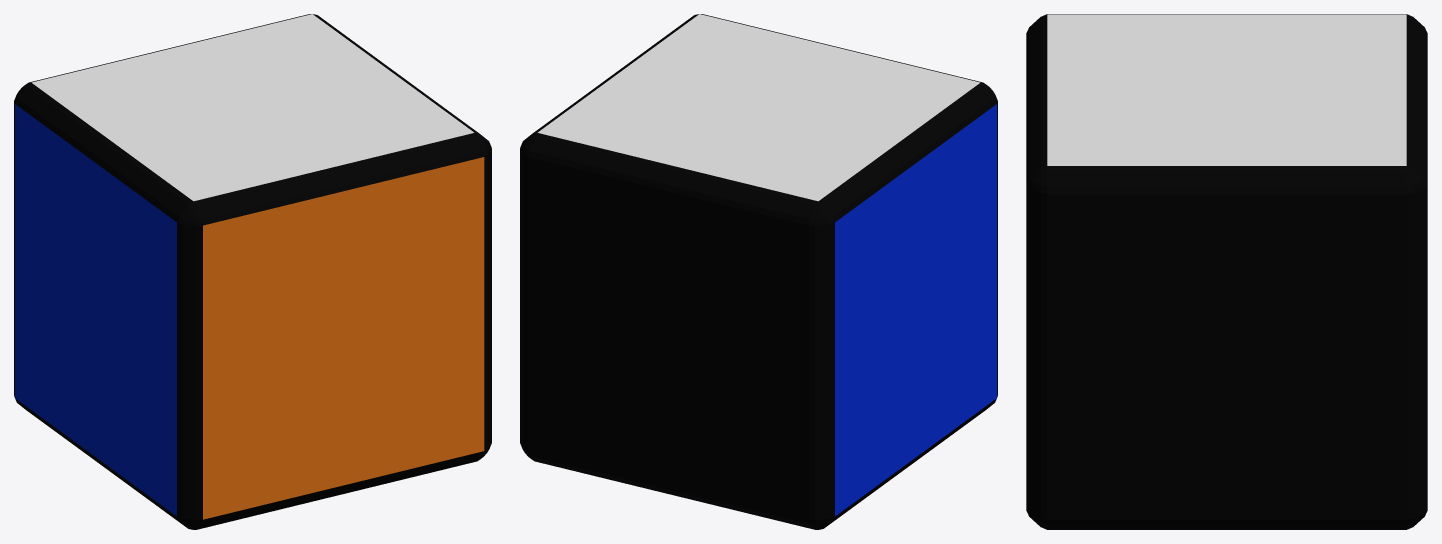
Rendered from BOW.glb.
3 views of the same model, side by side, from view 1: azimuth 30°, elevation 25°; view 2: azimuth 150°, elevation 25°; view 3: azimuth 270°, elevation 25° (orthographic). The views are drawn at different scales.
Parts seen in each view (by area): view 1: Cube; view 2: Cube; view 3: Cube.
Part boxes in pixels (<box>): Cube: <box>14,14,491,529</box>; Cube: <box>520,14,997,529</box>; Cube: <box>1026,14,1427,529</box>.
Size of the model in its own units: 2 by 2 by 2.
